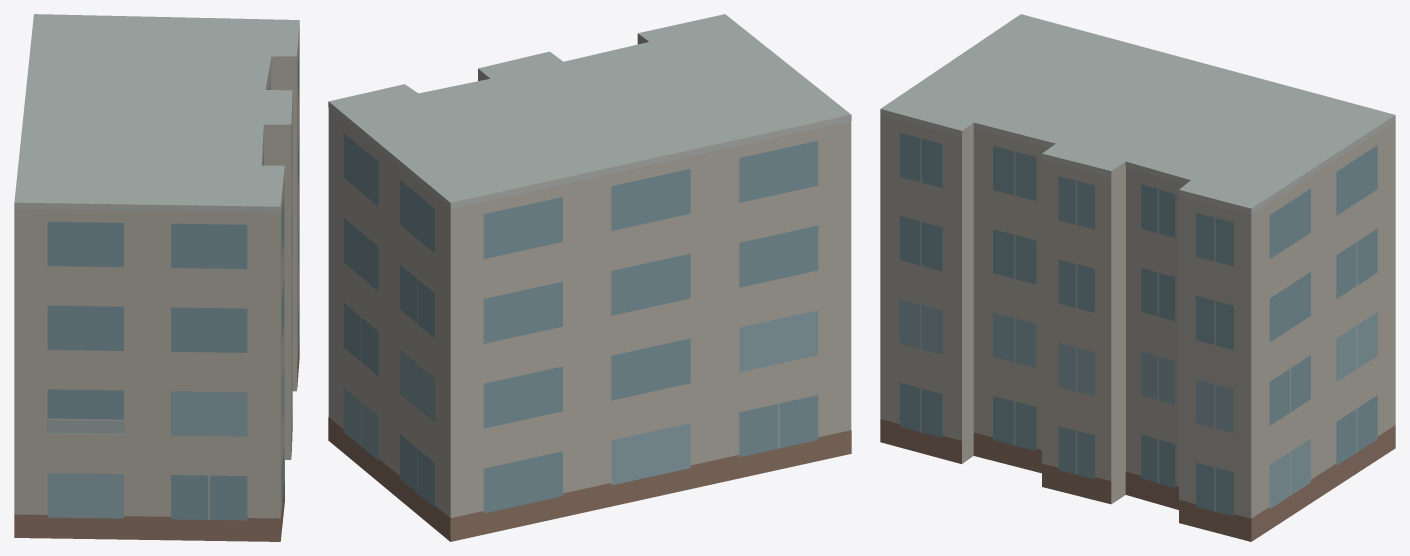
File: survey-upis-32534698.glb
3 renders of one model, left to right at view 1: azimuth 30°, elevation 25°; view 2: azimuth 150°, elevation 25°; view 3: azimuth 270°, elevation 25°, orthographic.
Parts seen in each view (by area): view 1: survey-upis-32534698.tmp; view 2: survey-upis-32534698.tmp; view 3: survey-upis-32534698.tmp.
Part boxes in pixels (x1,y1,x2,y2): survey-upis-32534698.tmp: (14, 14, 299, 541); survey-upis-32534698.tmp: (328, 14, 851, 541); survey-upis-32534698.tmp: (880, 14, 1395, 541).
Bounding box in the file's own units: 16.35 × 13.05 × 18.29.
